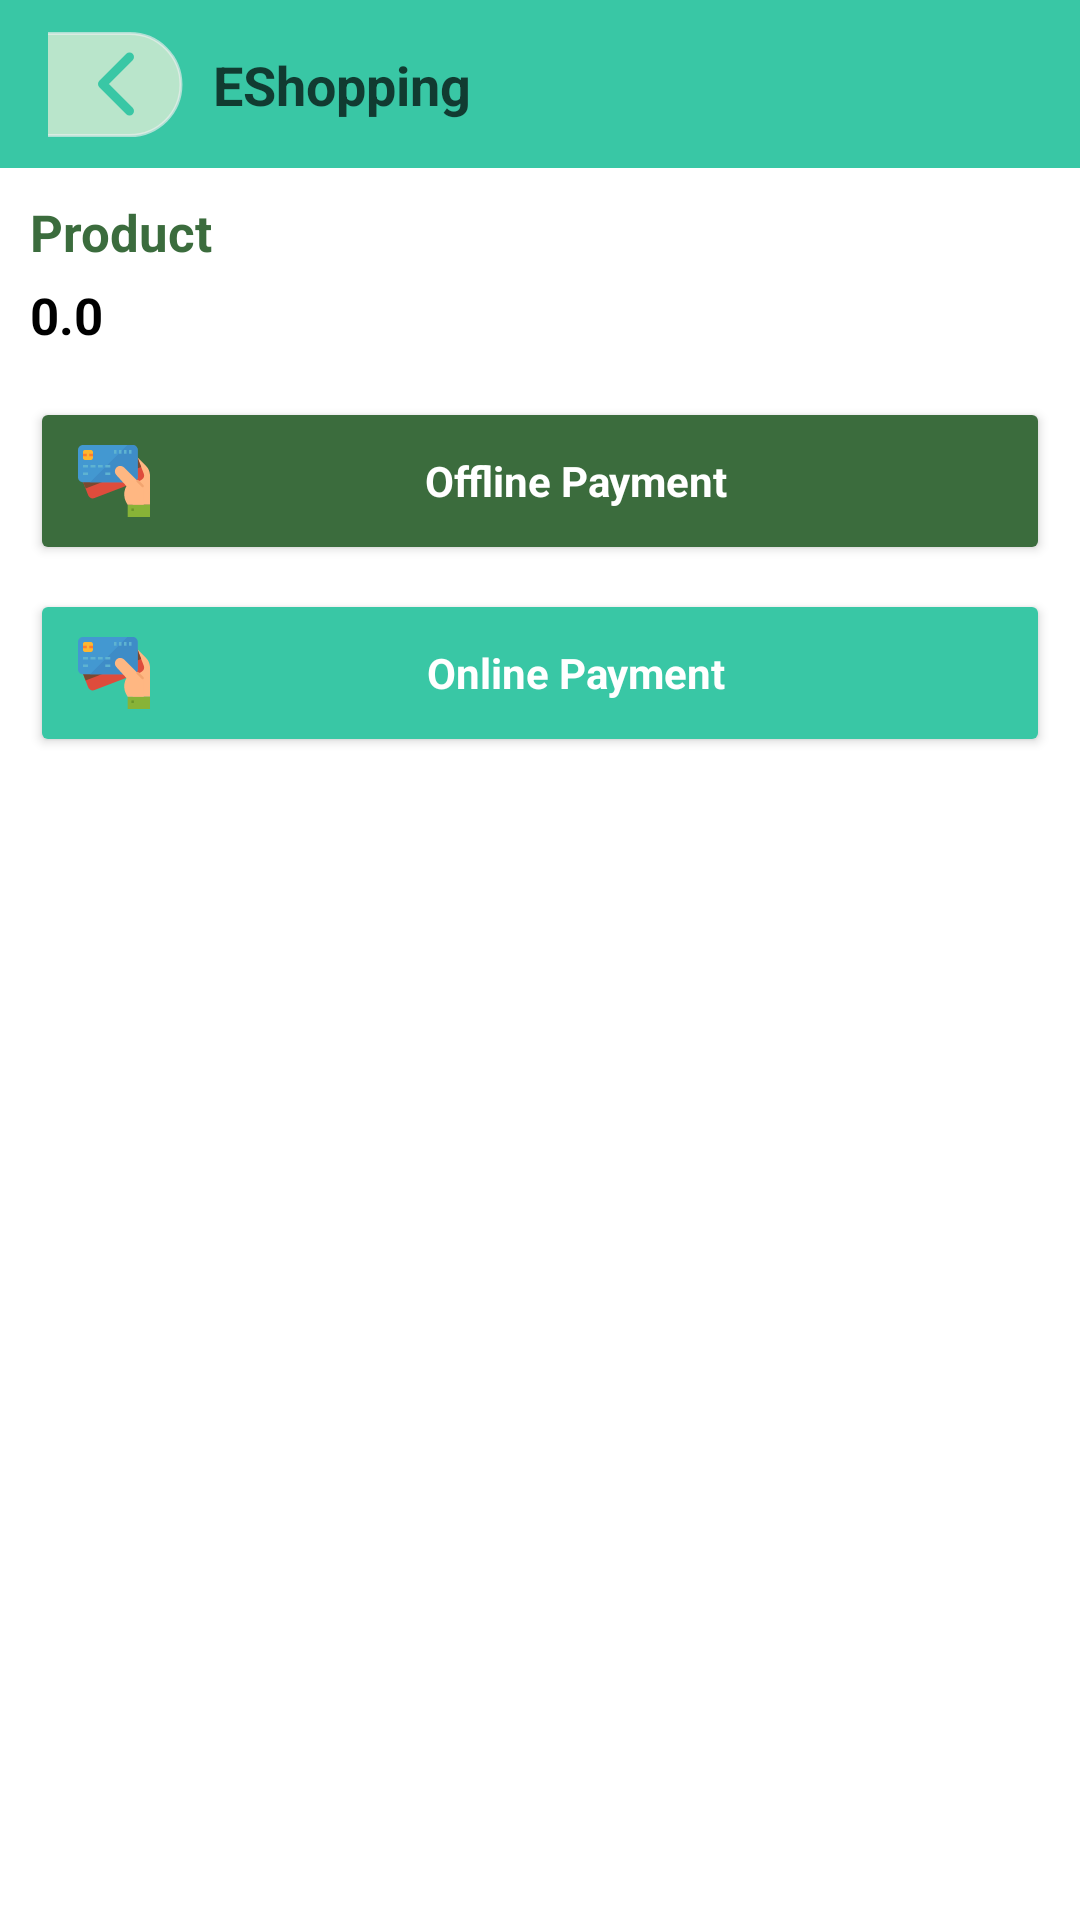

Named icons in this screenshot (1080x1920) and their bounding boxes, BBox(x1, y1, x2, y2):
back: BBox(48, 32, 183, 137)
